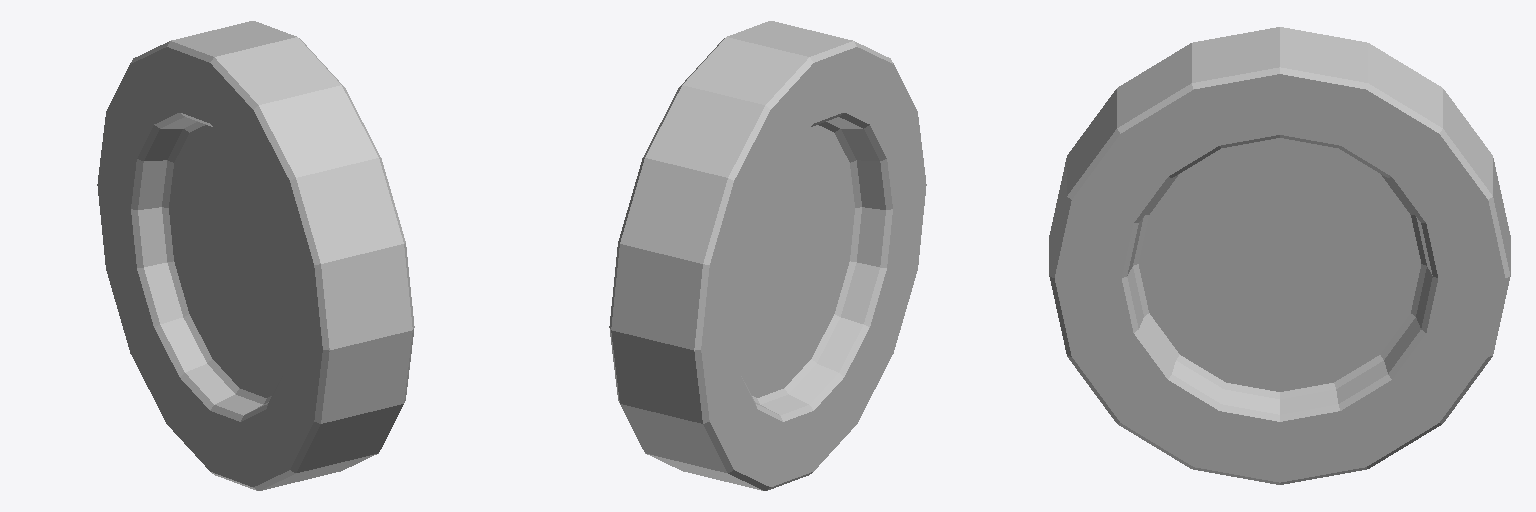
File: coin.obj
3 renders of one model, left to right at view 1: azimuth 30°, elevation 25°; view 2: azimuth 150°, elevation 25°; view 3: azimuth 270°, elevation 25°, orthographic.
Parts seen in each view (by area): view 1: Cointris; view 2: Cointris; view 3: Cointris.
Part boxes in pixels (left/top/right/bottom): Cointris: left=97, top=21, right=414, bottom=490; Cointris: left=609, top=21, right=926, bottom=490; Cointris: left=1049, top=27, right=1510, bottom=484.
Size of the model in its own units: 0.4596 by 2 by 2.